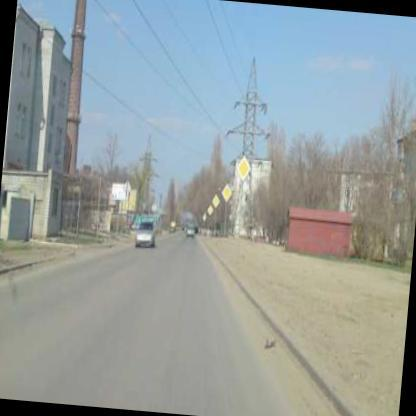road_sign: (233, 155, 250, 181), (221, 184, 232, 202), (211, 194, 220, 208)
